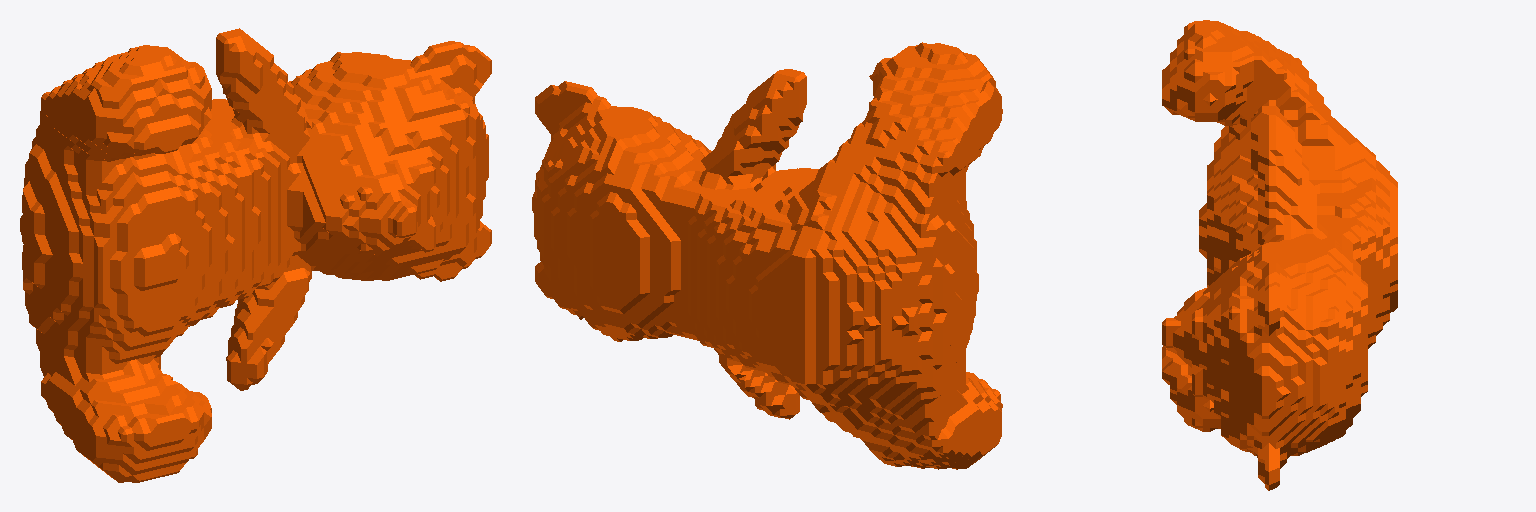
URDF robot description (Bear_34):
<robot name="Bear_34">
   <material name="obj_color">
      <color rgba="1.0 0.423529411765 0.0392156862745 1.0" />
   </material>
   <link name="top">
      <inertial>
         <origin rpy="0.000175427902874057 0.0003677514043330867 0.0004547715630254232" xyz="-0.0003376468782077944 0.002151350071331045 -8.163879917219104e-05" />
         <mass value="0.24875" />
         <inertia ixx="0.0001757123880346387" ixy="-8.90199536249756e-06" ixz="-3.116112285275617e-07" iyy="0.0004544875528480429" iyz="-6.612869183924893e-08" izz="0.0003677509293498852" />
      </inertial>
      <visual>
         <origin rpy="0 0 0" xyz="0 0 0" />
         <geometry>
            <mesh filename="top_watertight_tiny.stl" scale="1 1 1" />
         </geometry>
         <material name="obj_color" />
      </visual>
      <collision>
         <origin rpy="0 0 0" xyz="0 0 0" />
         <geometry>
            <mesh filename="top_watertight_tiny.obj" scale="1 1 1" />
         </geometry>
      </collision>
   </link>
   <link name="bottom">
      <inertial>
         <origin rpy="1.633333333194242e-08 1.633333333194243e-08 1.633333333357667e-08" xyz="0.3464080000000008 0.3464080000000008 0.3464080000000008" />
         <mass value="0.0009800000000000017" />
         <inertia ixx="1.633333333248717e-08" ixy="5.447480642029219e-19" ixz="5.447480642029219e-19" iyy="1.633333333248717e-08" iyz="5.447480642029219e-19" izz="1.633333333248717e-08" />
      </inertial>
      <visual>
         <origin rpy="0 0 0" xyz="0 0 0" />
         <geometry>
            <mesh filename="bottom_watertight_tiny.stl" scale="1 1 1" />
         </geometry>
         <material name="obj_color" />
      </visual>
   </link>
   <link name="world" />
   <joint name="world_to_base" type="fixed">
      <origin xyz="0 0 0" />
      <axis xyz="0 0 0" />
      <parent link="world" />
      <child link="bottom" />
   </joint>
   <joint name="rotation" type="revolute">
      <origin xyz="0 0 0" />
      <axis xyz="0 0 -1" />
      <parent link="bottom" />
      <child link="top" />
      <dynamics damping="1.0" friction="1.0" />
      <limit effort="0.1" velocity="0.1" lower="0" upper="0.001" />
   </joint>
</robot>

--- Render facts (derived) ---
The picture shows the robot from 3 angles, left to right: view 1: azimuth 30°, elevation 25°; view 2: azimuth 150°, elevation 25°; view 3: azimuth 270°, elevation 25°; orthographic projection.
Model Bear_34 with 3 links and 2 joints (1 revolute, 1 fixed), rooted at world, posed all joints at 0.
Links seen in each view (by area): view 1: top; view 2: top; view 3: top.
Boxes of the visible links, x1,y1,x2,y2 form: top: [20, 28, 491, 482]; top: [532, 42, 1002, 469]; top: [1162, 20, 1397, 490].
Size in the robot's own frame: 0.1349 by 0.0664 by 0.1225 metres.
Meshes: 2 distinct files referenced, 1 mesh visuals loaded (1 binary STL); not drawn: 1 (reference not matched to a file when rendering).
